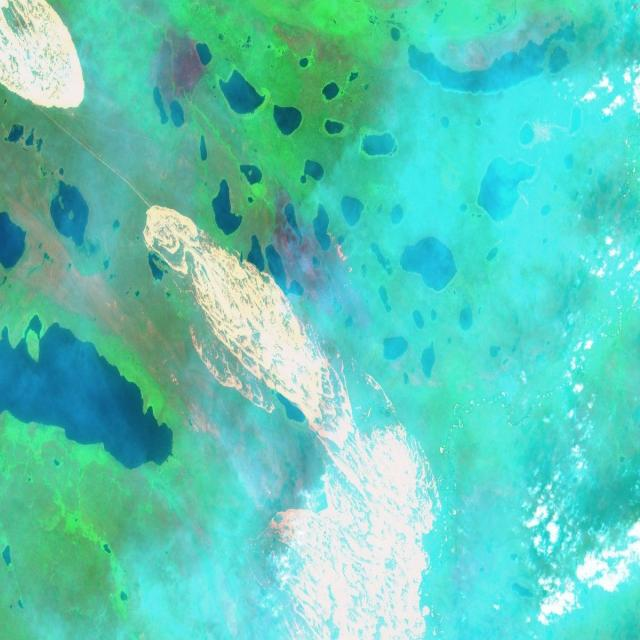fire: (322, 228, 363, 278)
